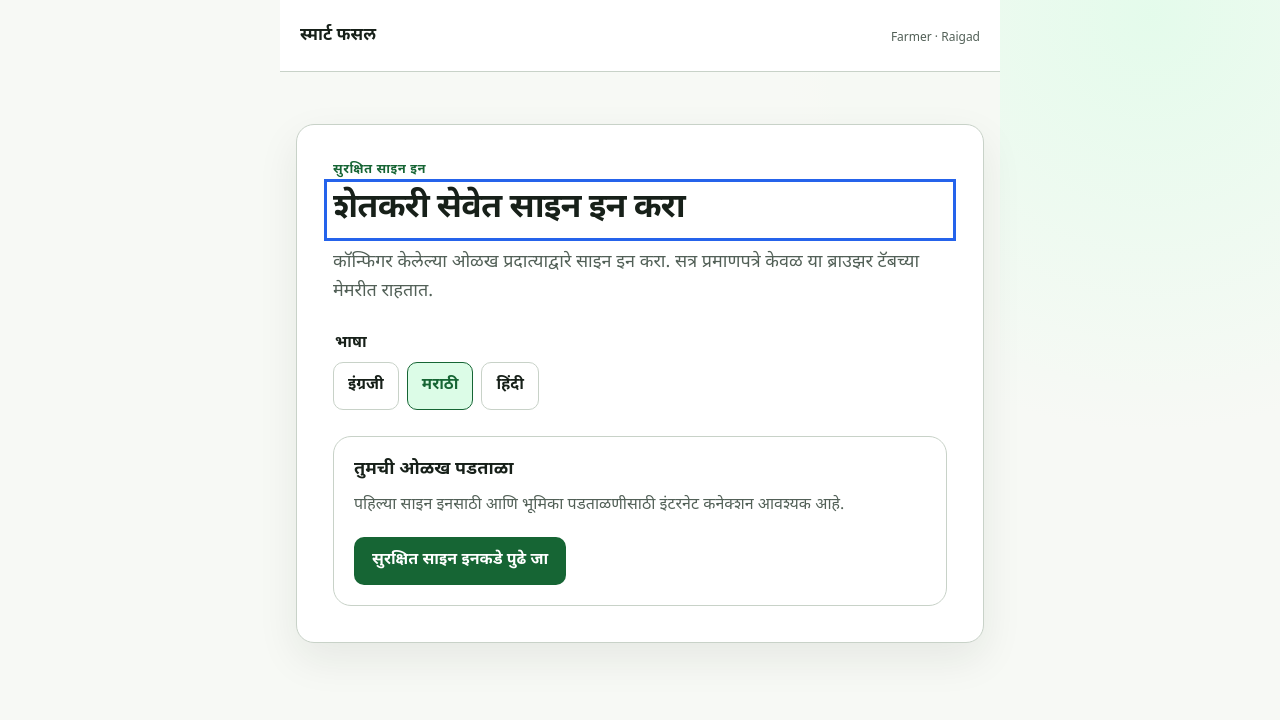
Test: Farmer authentication gateway › renders the truthful expired result from role establishment
Click the button "सुरक्षित साइन इनकडे पुढे जा": (460, 561) [354, 537, 566, 585]
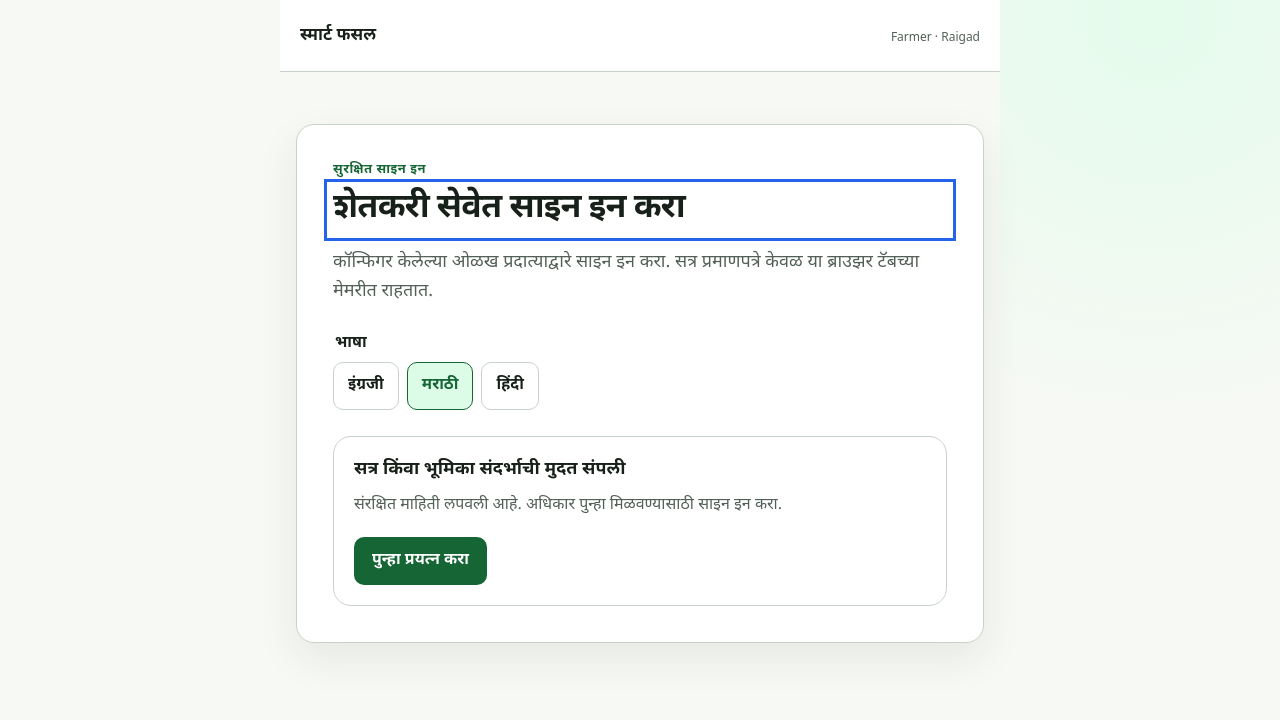
Check: the heading "सत्र किंवा भूमिका संदर्भाची मुदत संपली" is shown, box [354, 458, 626, 481]
Check: the button "पुन्हा प्रयत्न करा" is shown, box [354, 537, 487, 585]
